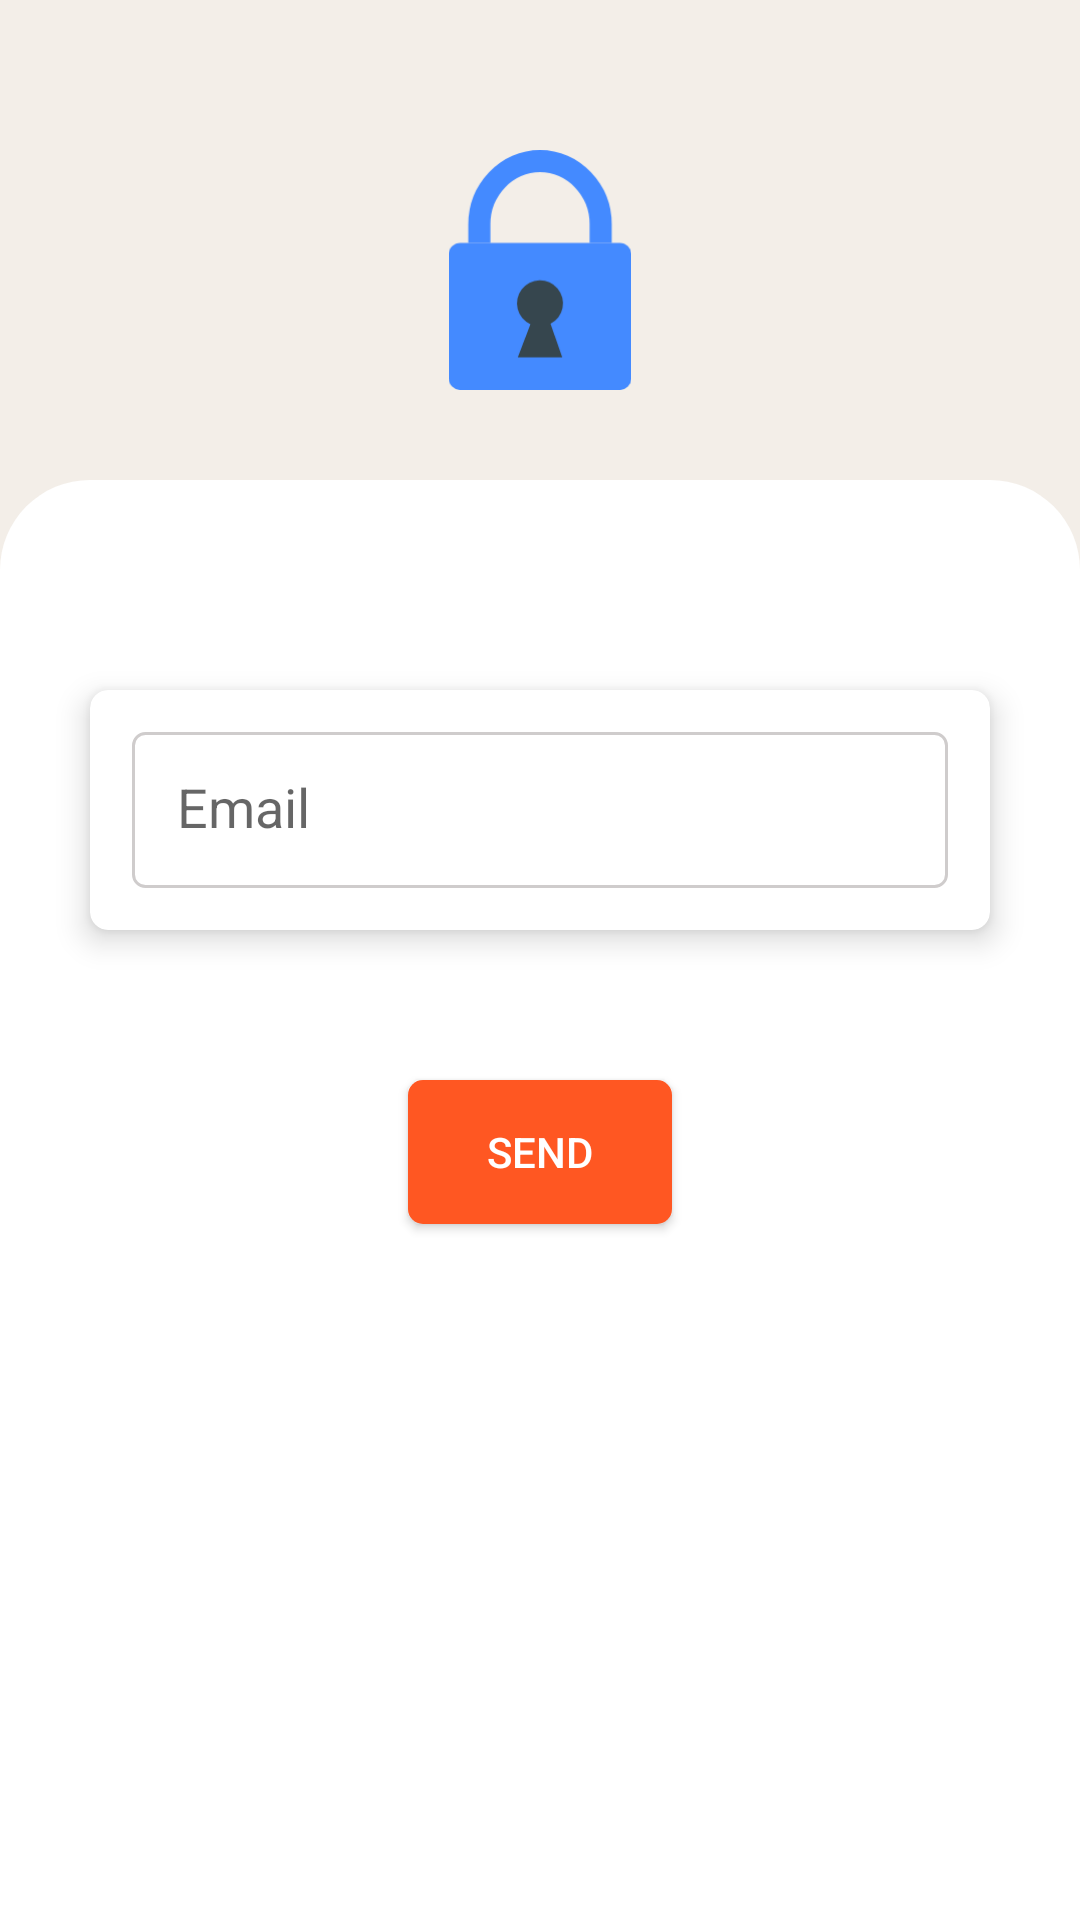

Screen size 1080px x 1920px. Icon name, then its center in pixels as (x=x, y=y):
padlock: (x=540, y=270)
